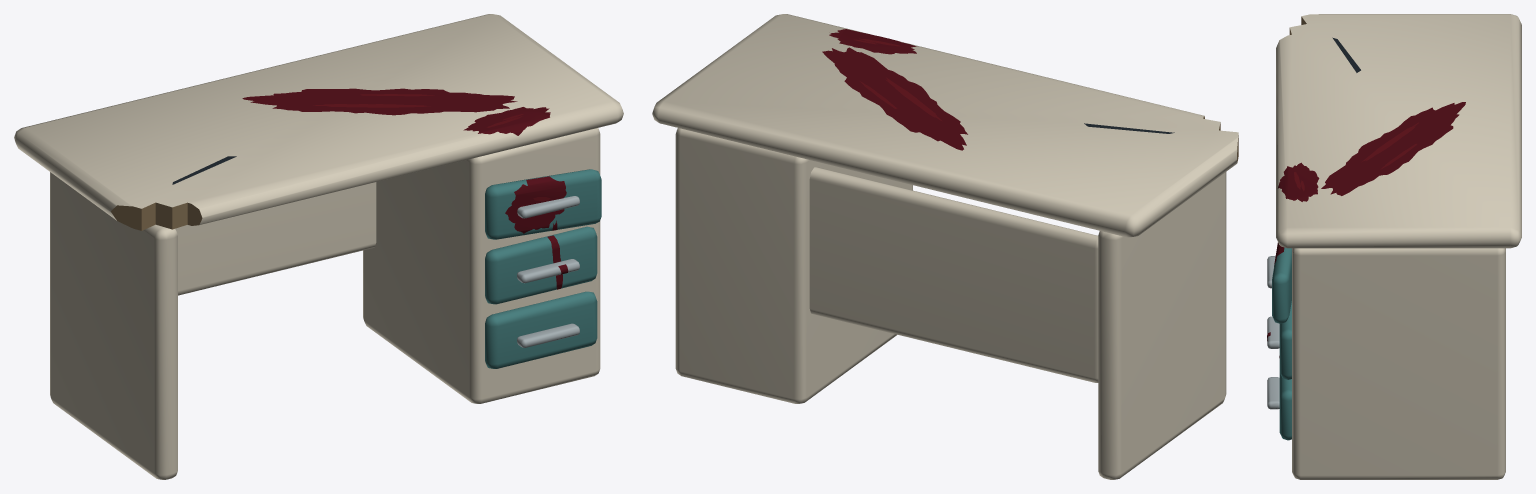
Rendered from consultation_desk.glb.
3 renders of one model, left to right at view 1: azimuth 30°, elevation 25°; view 2: azimuth 150°, elevation 25°; view 3: azimuth 270°, elevation 25°, orthographic. The views are drawn at different scales.
Parts seen in each view (by area): view 1: consultation_desk_Outbreak_Static; view 2: consultation_desk_Outbreak_Static; view 3: consultation_desk_Outbreak_Static.
Part boxes in pixels (bbox=[...]): consultation_desk_Outbreak_Static: bbox=[14, 14, 623, 479]; consultation_desk_Outbreak_Static: bbox=[652, 14, 1238, 479]; consultation_desk_Outbreak_Static: bbox=[1267, 14, 1521, 479].
Size of the model in its own units: 1.5 by 0.8133 by 0.7256.
